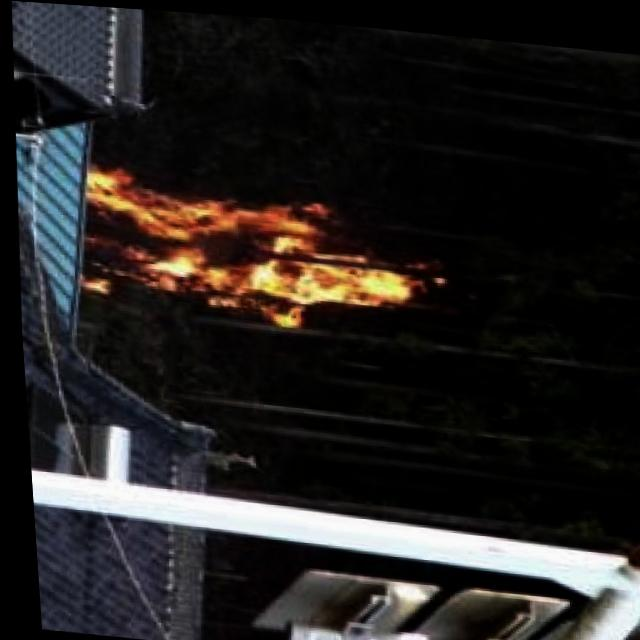Fire: (67, 165, 432, 341)
